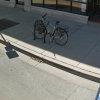Bicycle: (28, 10, 77, 55)
